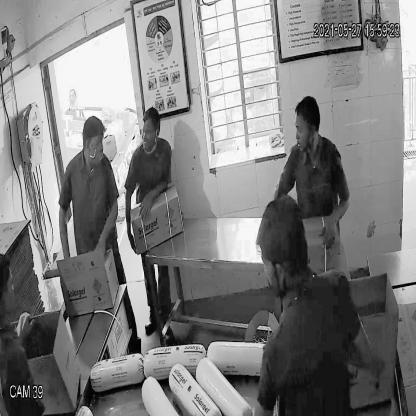no_goggles: (82, 132, 106, 150), (294, 122, 318, 137)
